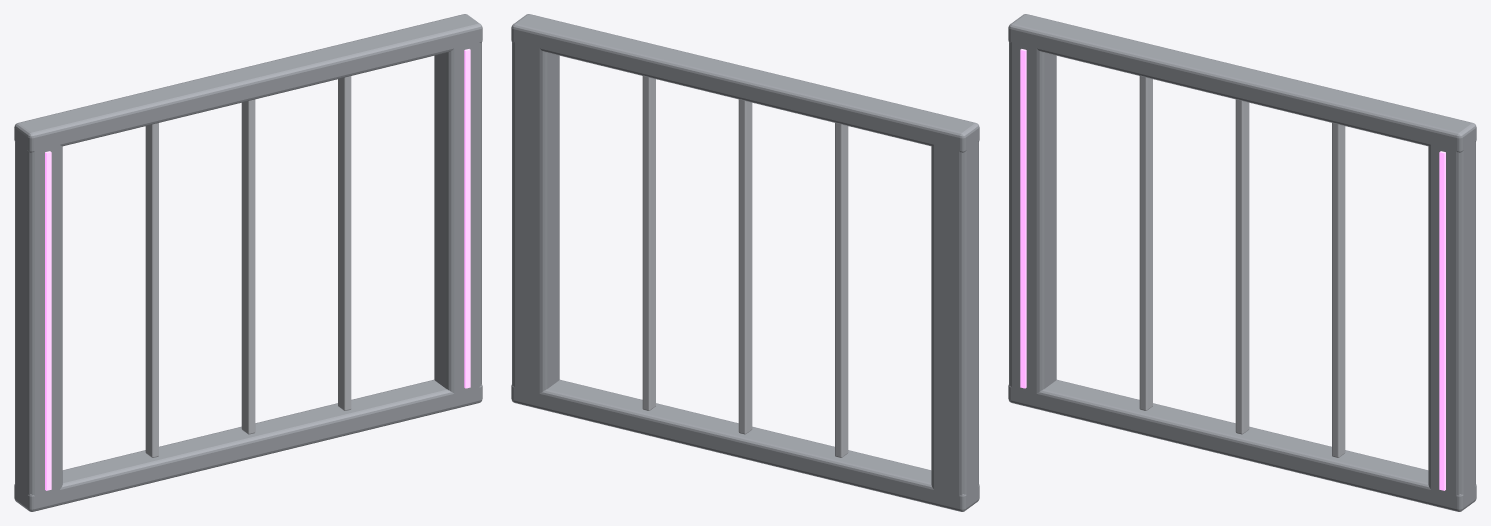
File: window_surround_panoramic_trim.glb
The picture shows the model from 3 angles, left to right: view 1: azimuth 30°, elevation 25°; view 2: azimuth 150°, elevation 25°; view 3: azimuth 330°, elevation 25°; orthographic projection.
Parts seen in each view (by area): view 1: GD_window_surround_panoramic_trim__m0, GD_window_surround_panoramic_trim__m2, GD_window_surround_panoramic_trim__m1; view 2: GD_window_surround_panoramic_trim__m0, GD_window_surround_panoramic_trim__m2; view 3: GD_window_surround_panoramic_trim__m0, GD_window_surround_panoramic_trim__m2, GD_window_surround_panoramic_trim__m1.
Part boxes in pixels (x1,y1,x2,y2): GD_window_surround_panoramic_trim__m0: [14, 14, 482, 511]; GD_window_surround_panoramic_trim__m2: [145, 76, 351, 457]; GD_window_surround_panoramic_trim__m1: [45, 49, 470, 490]; GD_window_surround_panoramic_trim__m0: [511, 14, 979, 511]; GD_window_surround_panoramic_trim__m2: [642, 76, 848, 457]; GD_window_surround_panoramic_trim__m0: [1008, 14, 1476, 511]; GD_window_surround_panoramic_trim__m2: [1139, 76, 1345, 457]; GD_window_surround_panoramic_trim__m1: [1020, 49, 1445, 490].
Bounding box in the file's own units: 1.83 × 1.46 × 0.131.
